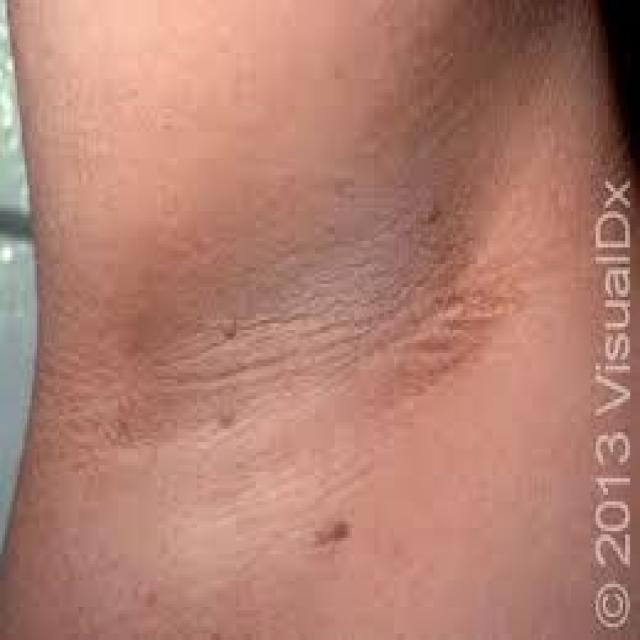Acanthosis Nigricans: (132, 138, 530, 562)
